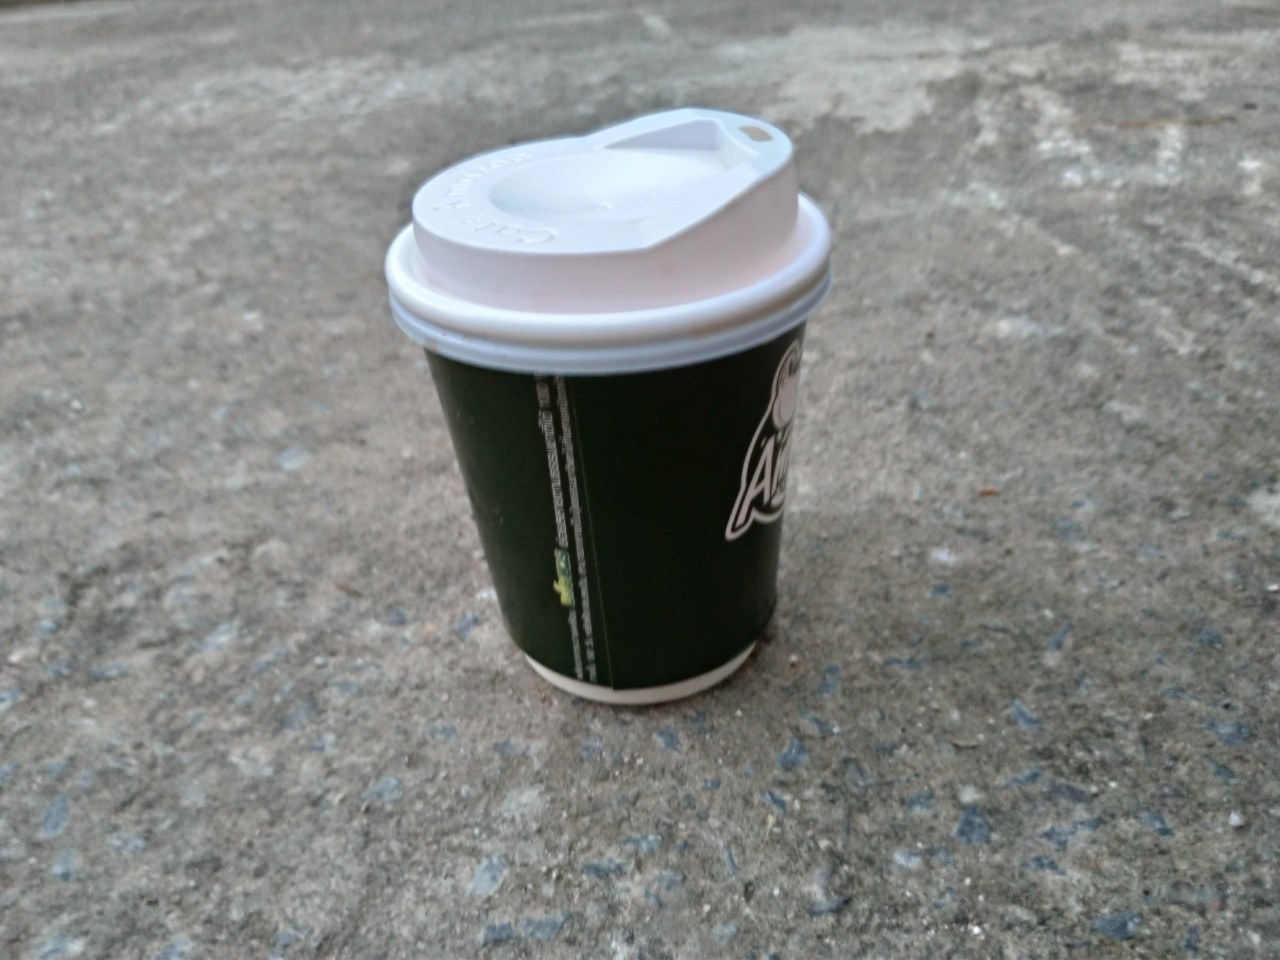PaperCup: (385, 109, 835, 702)
